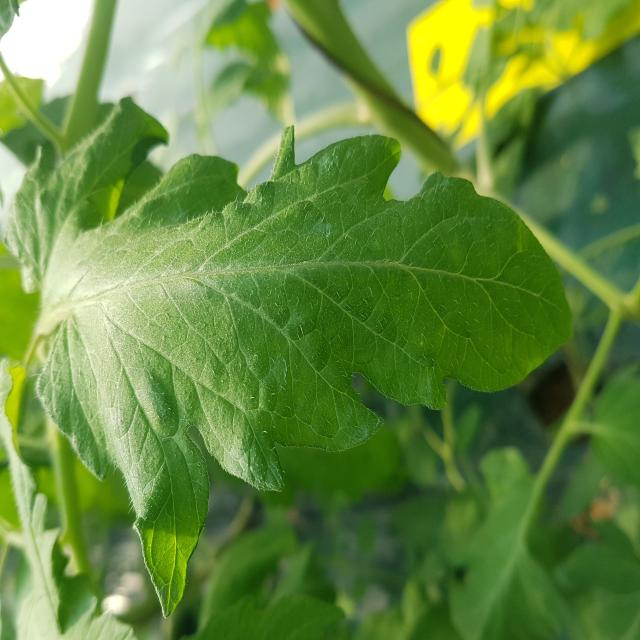Healthy Leaf: (37, 126, 573, 619)
